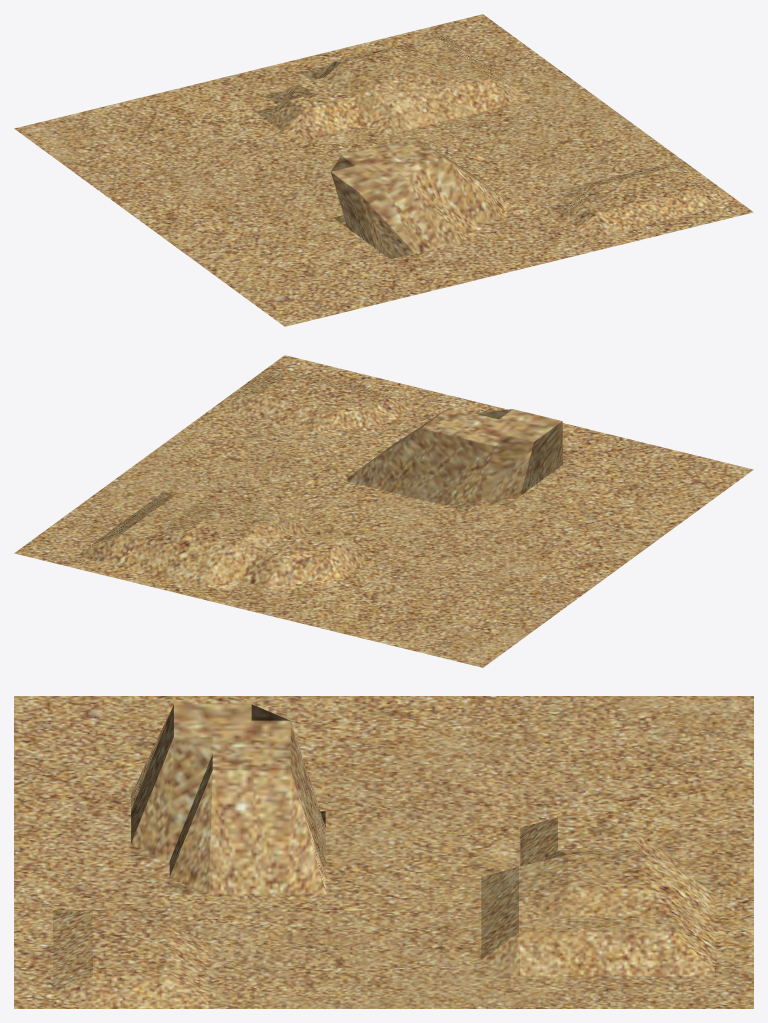
File: groundSand.obj
The picture shows the model from 3 angles, top to bottom: view 1: azimuth 30°, elevation 25°; view 2: azimuth 150°, elevation 25°; view 3: azimuth 270°, elevation 25°; orthographic projection. The views are drawn at different scales.
Parts seen in each view (by area): view 1: Grid; view 2: Grid; view 3: Grid.
Part boxes in pixels (bbox=[...]): Grid: bbox=[14, 14, 753, 326]; Grid: bbox=[14, 355, 753, 667]; Grid: bbox=[14, 696, 753, 1008].
Bounding box in the file's own units: 16 × 1.92 × 16.
